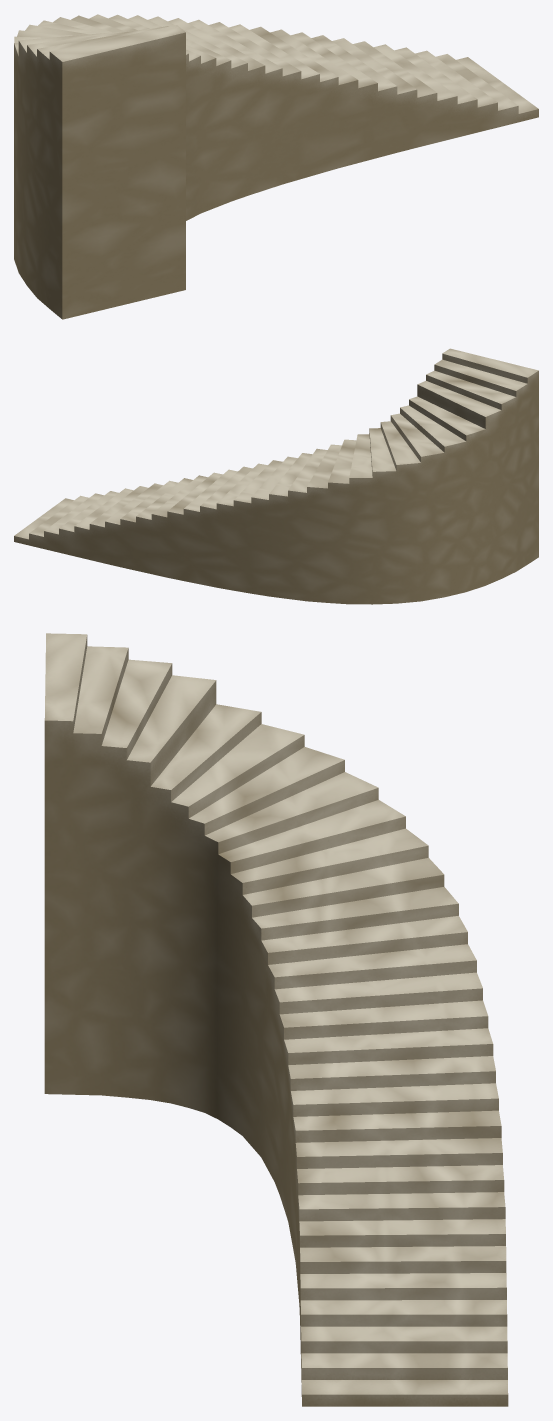
File: Stairs_Curved.fbx
3 views of the same model, one above another, from view 1: azimuth 30°, elevation 25°; view 2: azimuth 150°, elevation 25°; view 3: azimuth 270°, elevation 25° (orthographic). The views are drawn at different scales.
Visible parts, largest first — view 1: Stairs_Curved_Baked; view 2: Stairs_Curved_Baked; view 3: Stairs_Curved_Baked.
Part boxes in pixels (x1,y1,x2,y2): Stairs_Curved_Baked: (14,14,538,319); Stairs_Curved_Baked: (14,348,538,604); Stairs_Curved_Baked: (44,633,508,1406).
Bounding box in the file's own units: 838 × 365 × 411.
